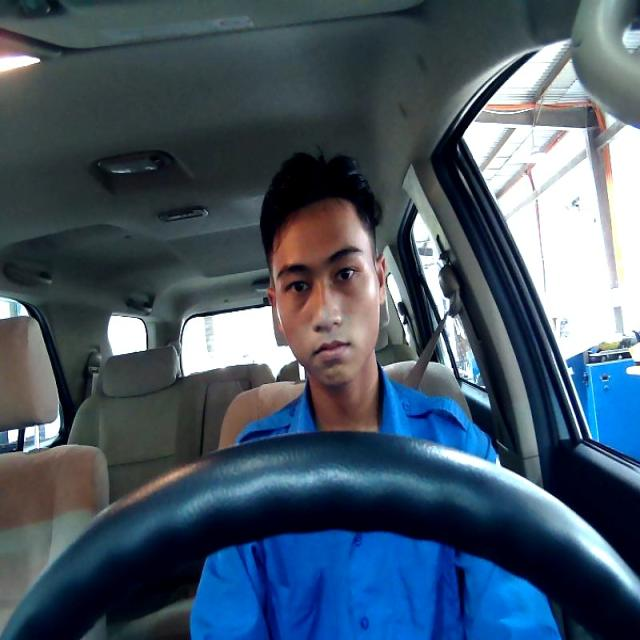focused: (266, 201, 386, 386)
